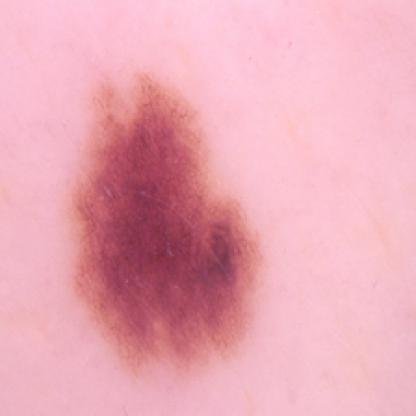benign: (69, 72, 266, 356)
